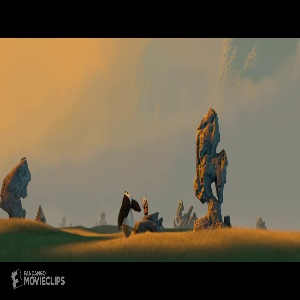po: (115, 190, 141, 238)
shifu: (142, 196, 149, 219)
